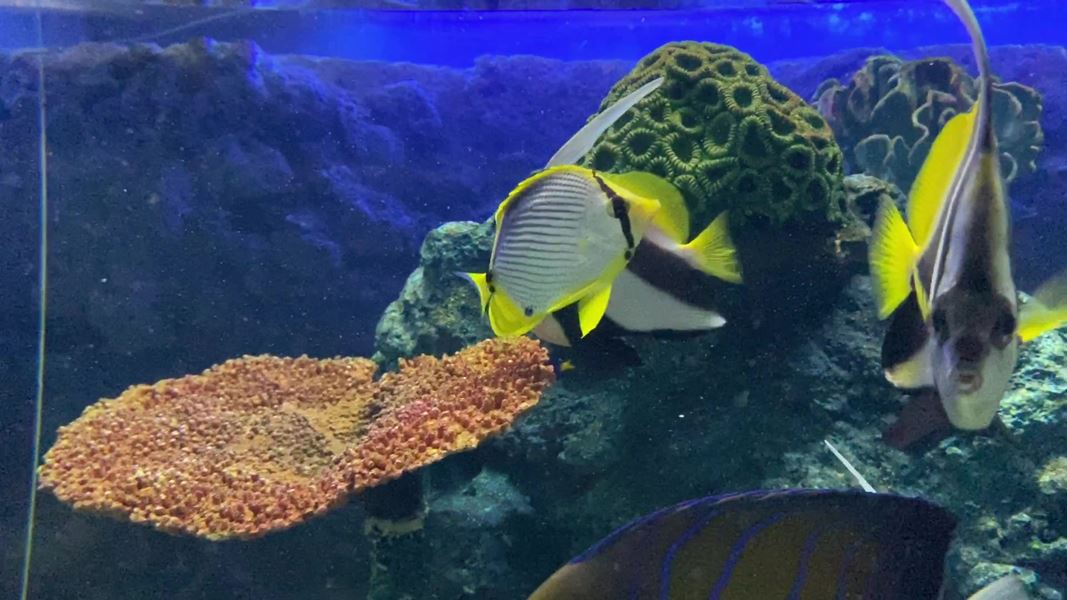Black-backed butterflyfish: (442, 154, 671, 348)
